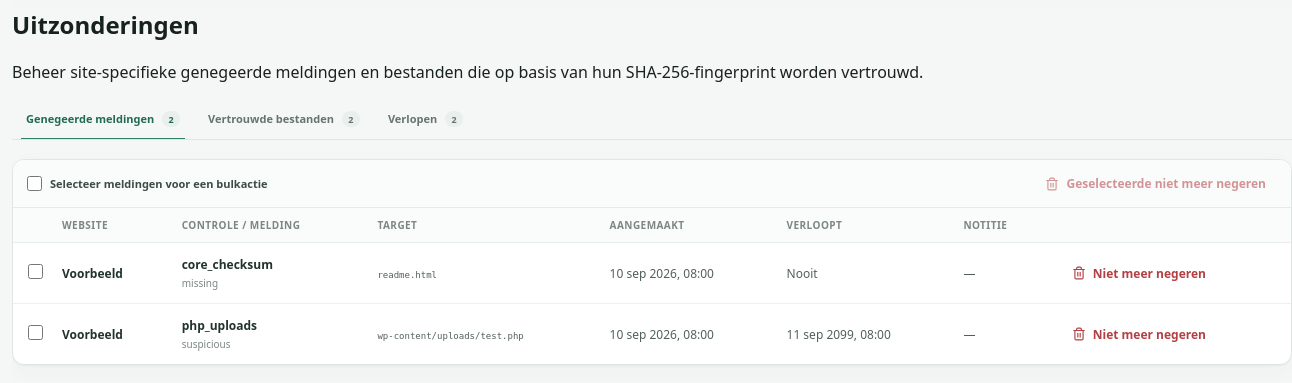
Test: ExceptionsView › shows ignored and changed trusted records with management actions
Click the button "Vertrouwde bestanden 2": (284, 119) [194,99,374,139]
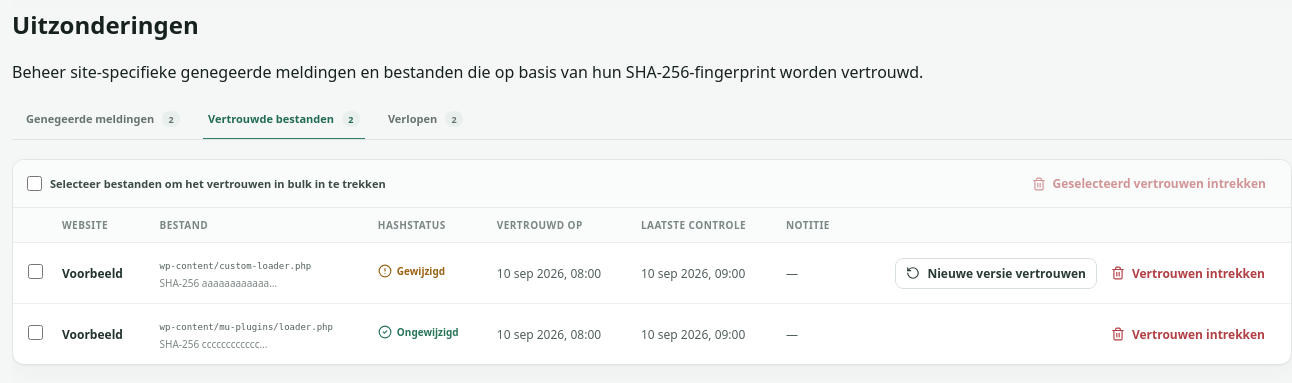
Now the text "wp-content/custom-loader.php" is shown, box [160,261,311,271]
Now the text "Gewijzigd" is shown, box [378,264,445,278]
Now the text "Nieuwe versie vertrouwen" is shown, box [896,258,1097,289]
